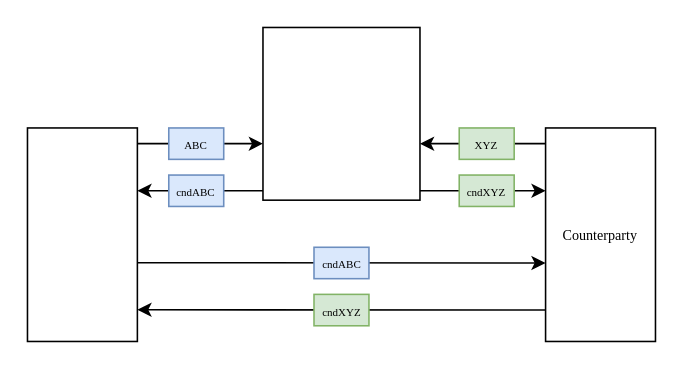
Some shapes in this 683 by 369 pixel diagram are drawn without their labels. The shapes that lost their labels are listed below. From the top down, each one's centre as x and y in pixels, then its label:
At point 340,113: "Conditional Vault".
At point 81,233: "Trader".
